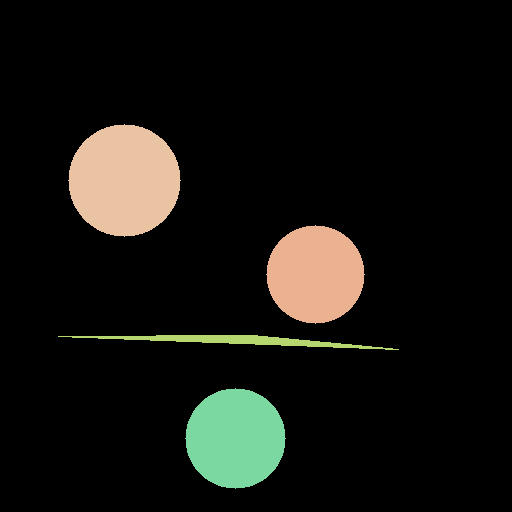circle: (68, 124, 180, 236), (185, 388, 285, 488), (266, 225, 364, 323)
